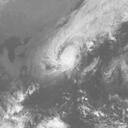cyclone: (48, 40, 78, 71)
